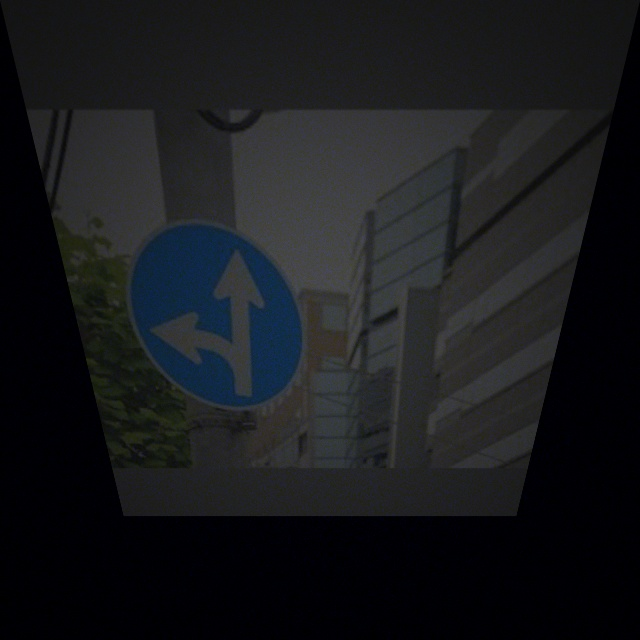Compulsory_Ahead_or_Turn_Left: (114, 221, 304, 409)
